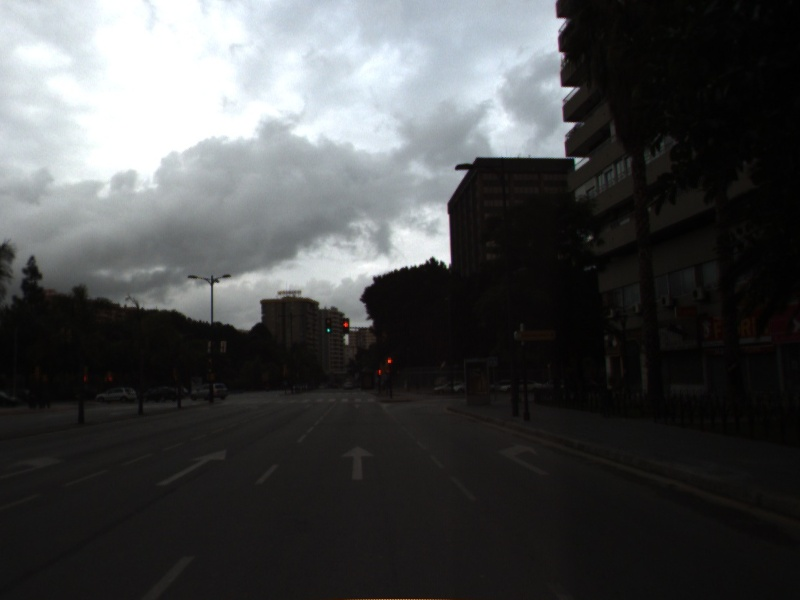LEFT: (1, 453, 67, 479)
RIGHT: (496, 439, 554, 478)
STRAIGHT: (152, 446, 230, 488), (338, 443, 378, 483)
